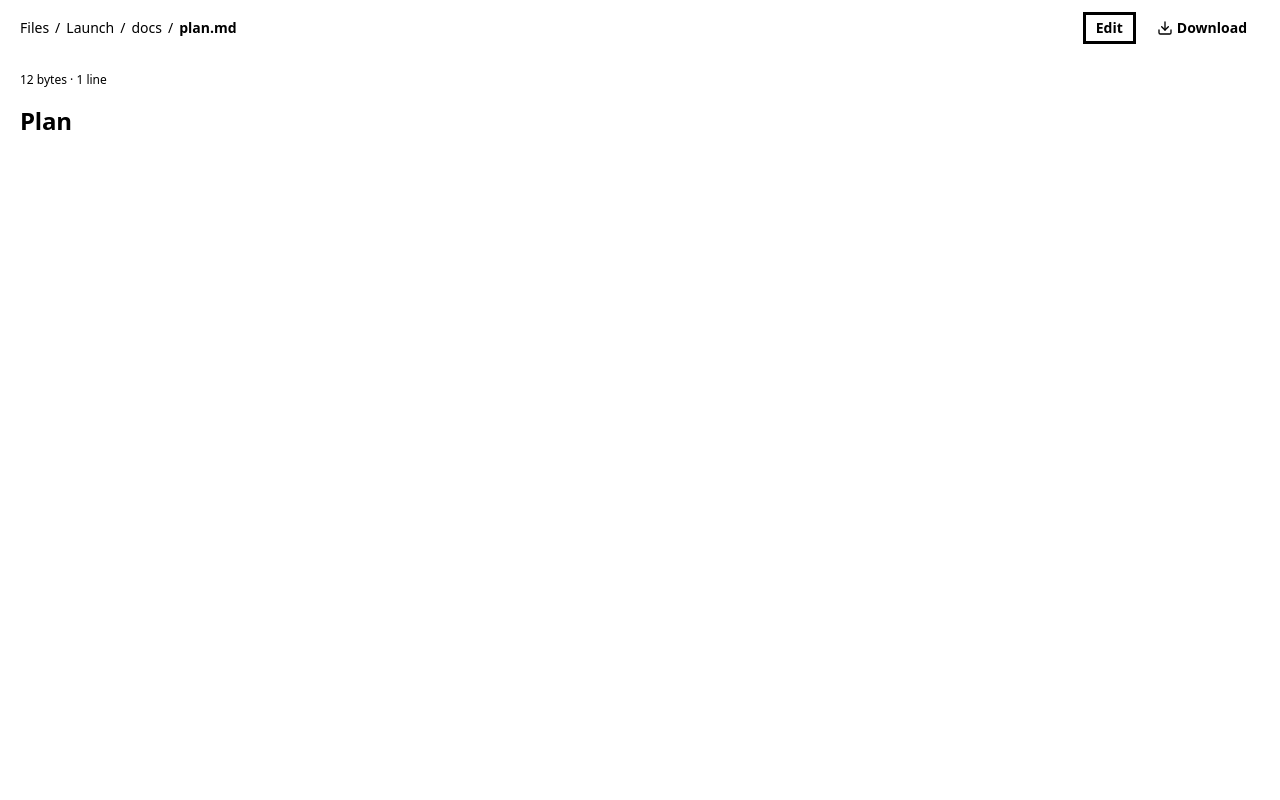
Test: a file beside a conversation › changes a file in place
This screenshot has width=1280, height=800.
Click the button "Edit".
click(1109, 28)  # box left=1083, top=12, right=1136, bottom=44
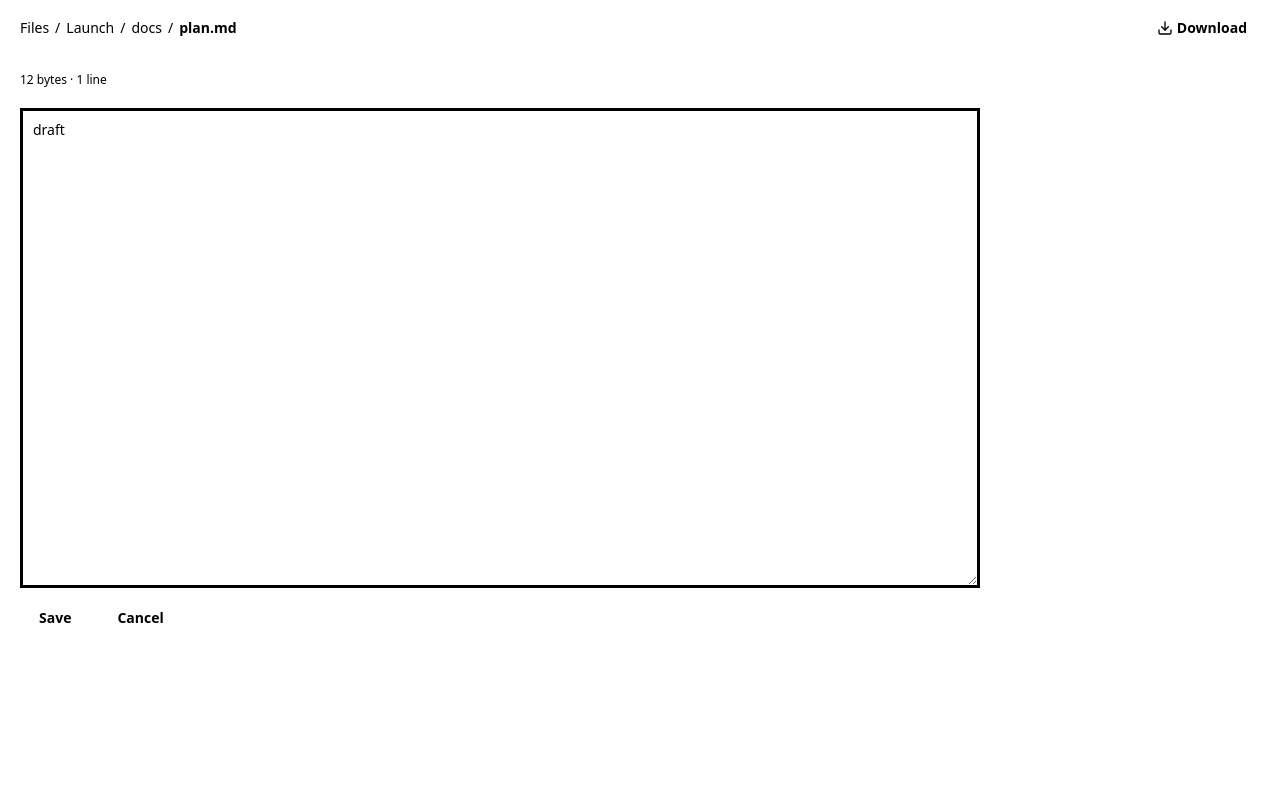
Result: the text box named "The text of plan.md" holds "draft" at left=20, top=108, right=980, bottom=588
Click the button "Save".
click(55, 618)  # box left=20, top=600, right=90, bottom=636
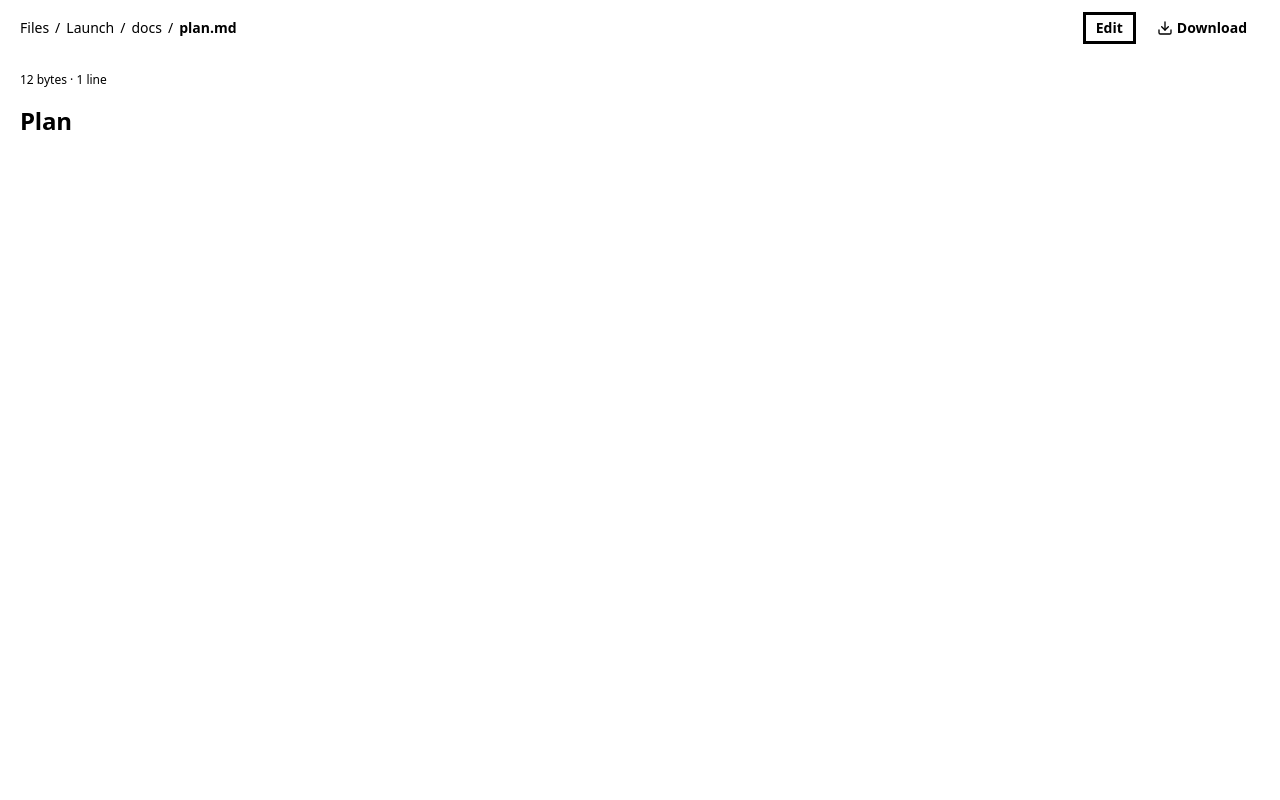
Result: the element with test id "file-body" is shown at left=20, top=104, right=72, bottom=137
